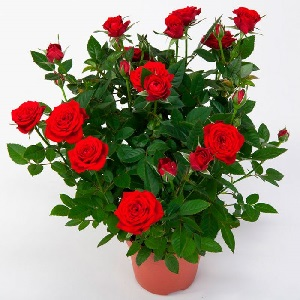rose: (118, 195, 156, 229), (135, 65, 171, 99), (209, 125, 242, 162), (49, 104, 82, 140), (73, 141, 105, 169), (166, 7, 198, 35), (235, 9, 260, 33), (103, 15, 129, 38), (16, 103, 39, 128), (192, 149, 210, 170), (45, 41, 63, 61)
